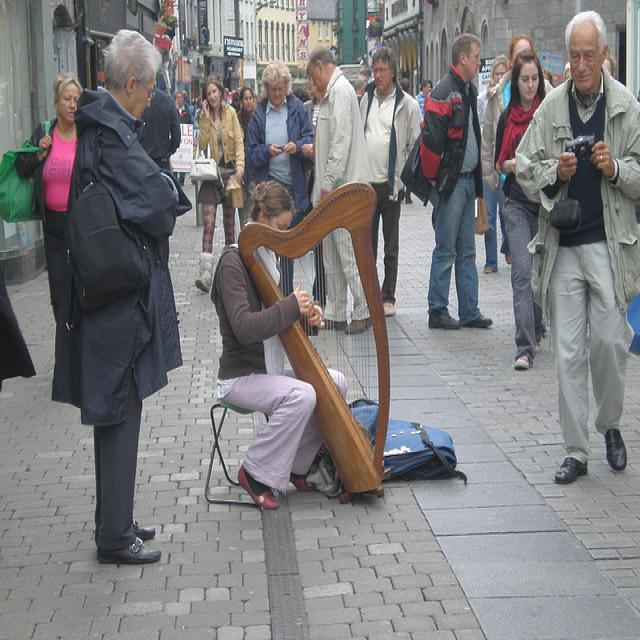harp: (235, 181, 393, 494)
